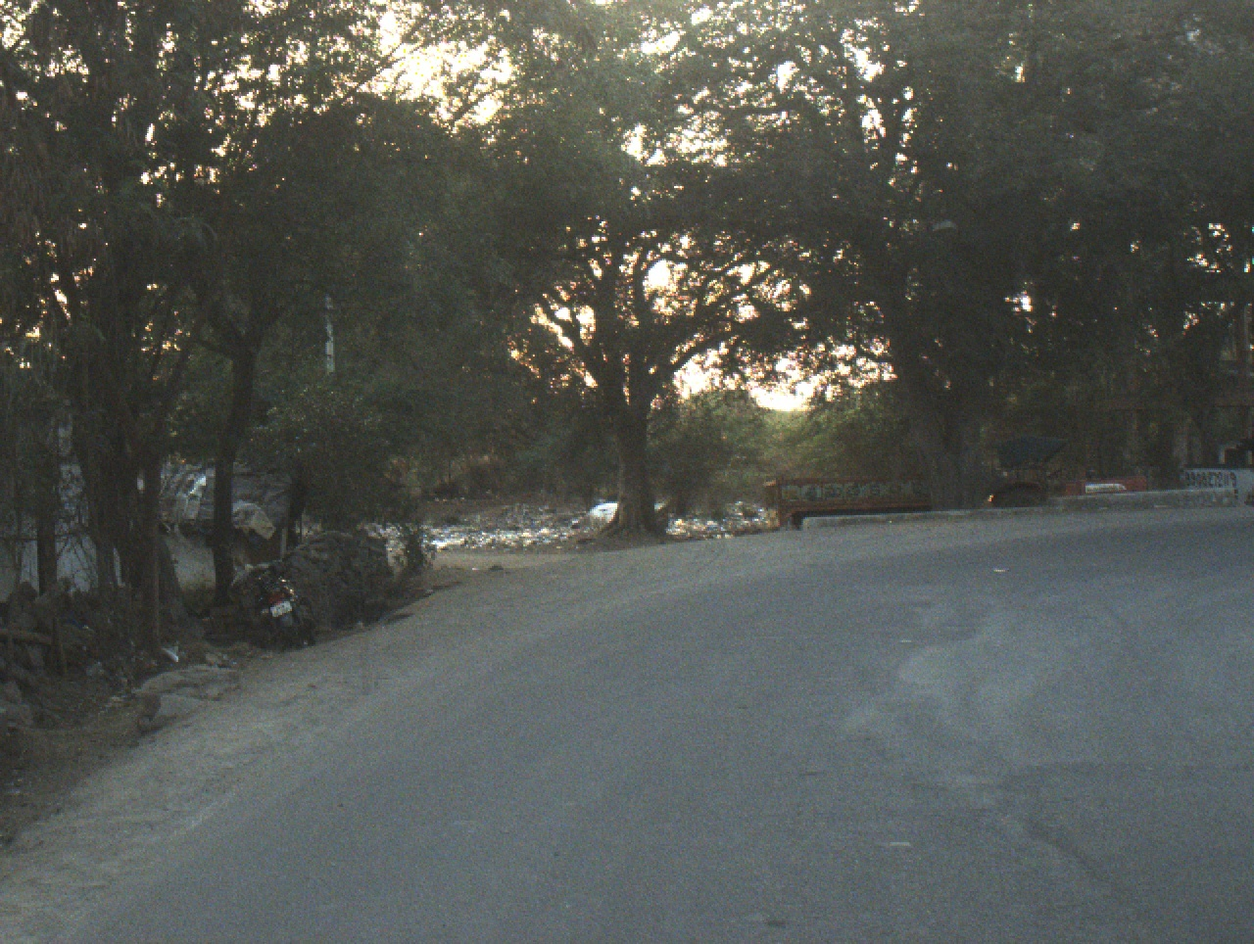motorcycle: (234, 558, 323, 660)
vehicle fallback: (753, 420, 1154, 522)
